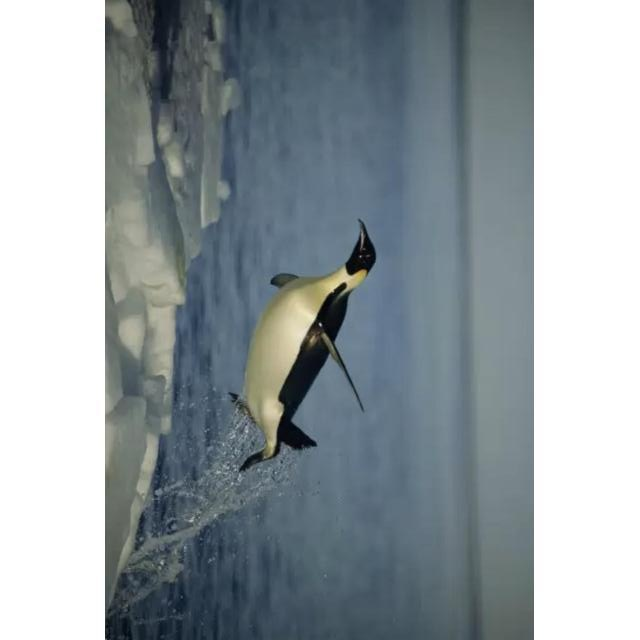penguin: (225, 217, 379, 473)
